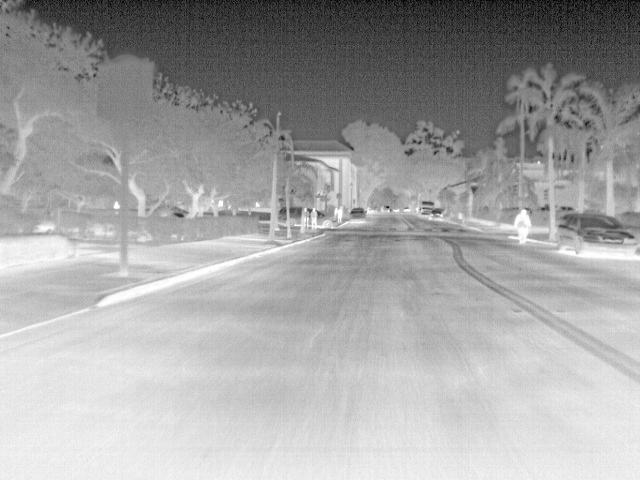car: (555, 211, 638, 259), (315, 211, 337, 230), (348, 206, 366, 223), (277, 206, 289, 228), (428, 206, 444, 222), (419, 200, 434, 216)
person: (513, 207, 533, 243), (298, 207, 311, 235), (335, 204, 347, 226), (111, 199, 123, 212)
